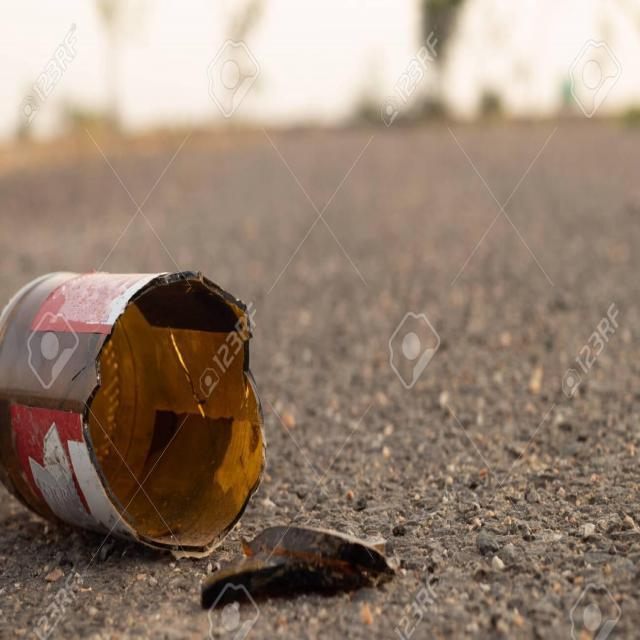glass: (0, 244, 409, 613)
